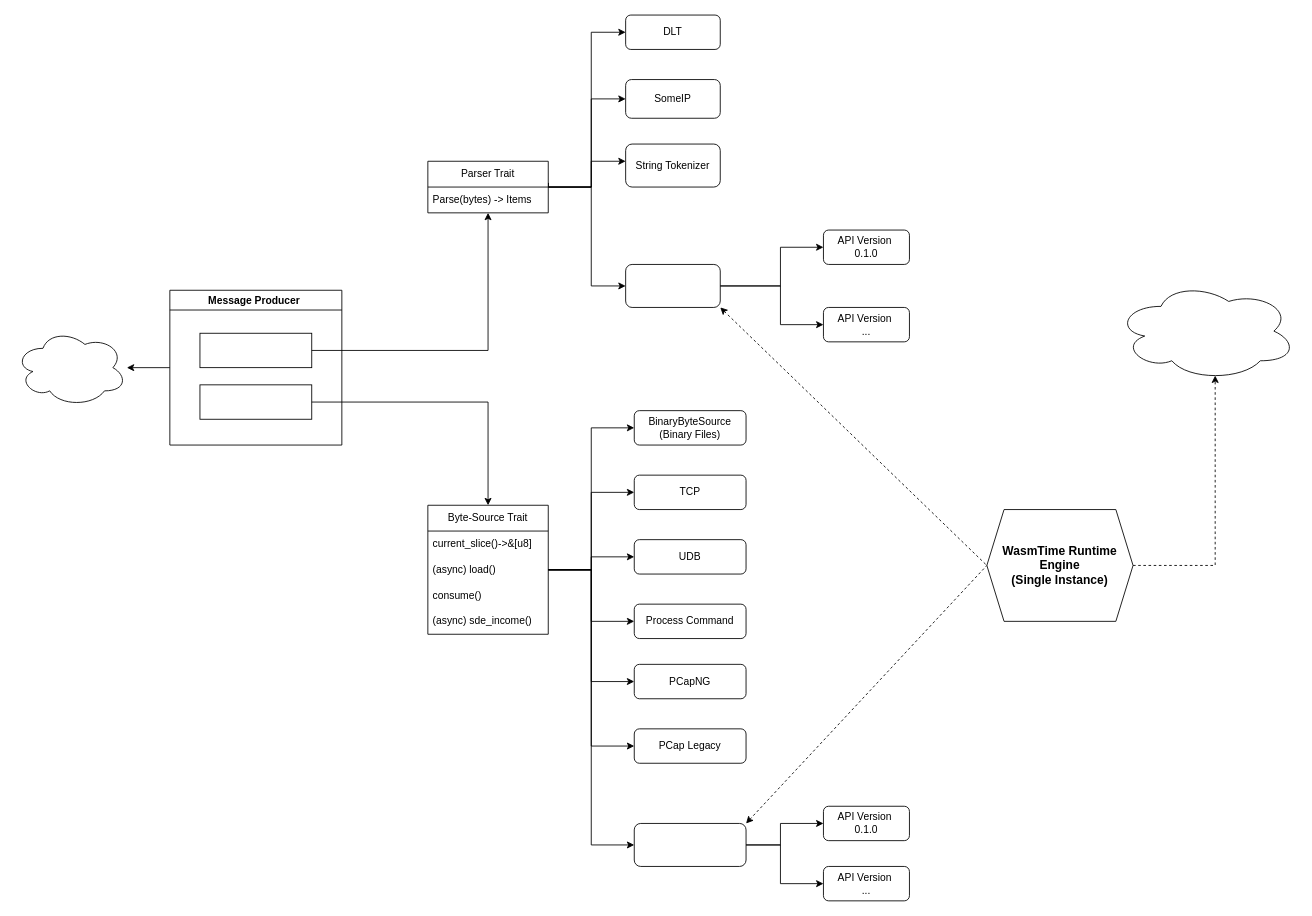
The diagram is 1312 pixels wide and 916 high, and some of its shapes have lost their labels. Each missing label, with the centre of its shape:
Byte-Source: the point at 255,401
Byte-Source Plugins Host: the point at 689,844
Parser: the point at 255,350
Parser Plugins Host: the point at 672,285
Plugins Manager: the point at 1205,331
Sessions: the point at 70,367
